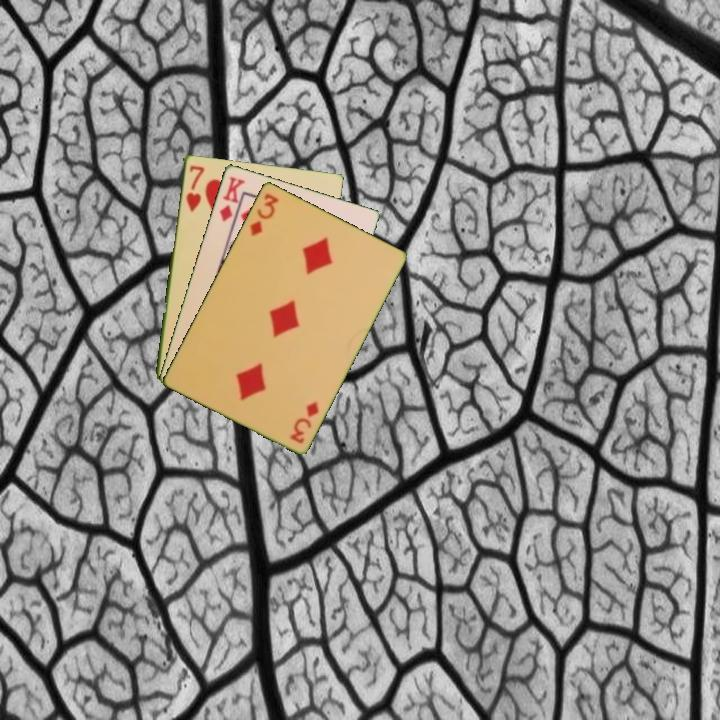3d: (286, 397, 322, 446), (246, 189, 281, 238)
7h: (182, 162, 207, 215)
Kd: (216, 173, 248, 224)
